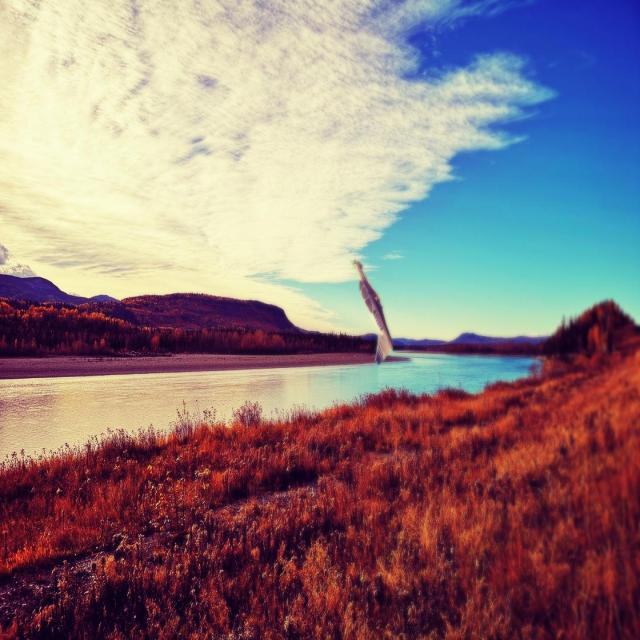airplane: (351, 258, 393, 364)
